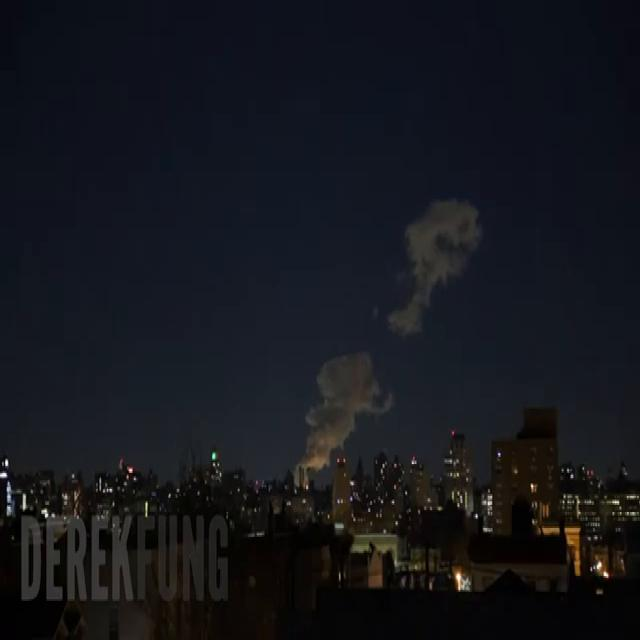smoke: (388, 199, 477, 332), (300, 352, 393, 471)
